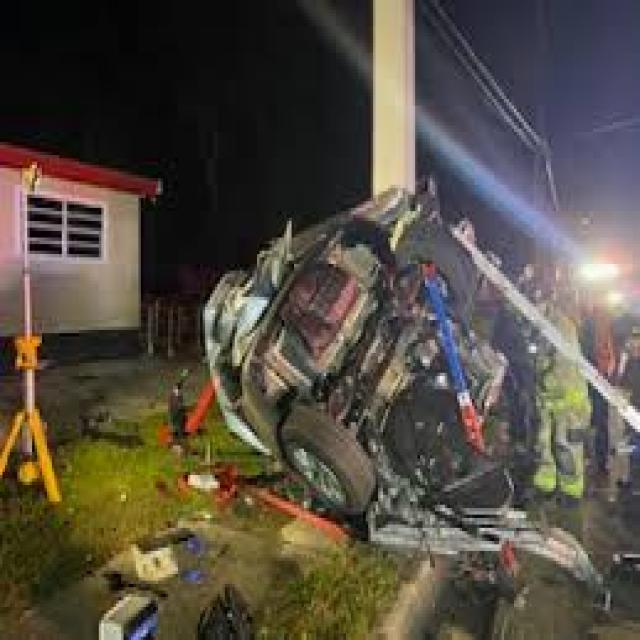car-serious-accident: (198, 183, 632, 580)
